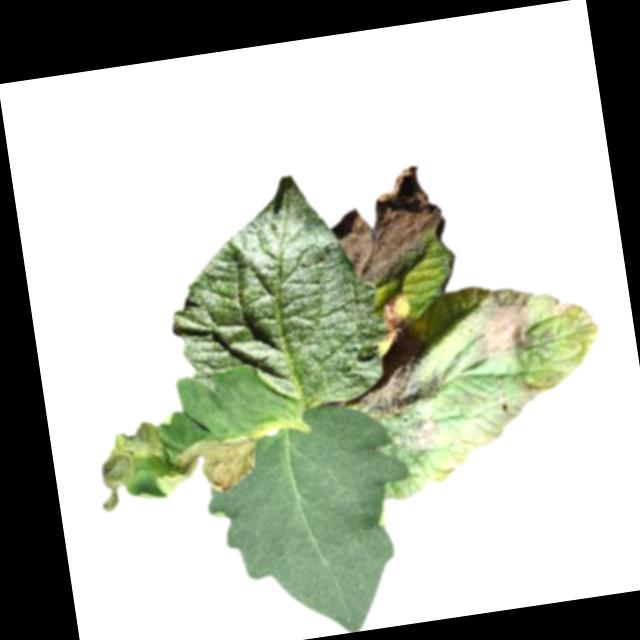Late_blight: (320, 162, 451, 294), (347, 325, 443, 419), (87, 417, 173, 513), (459, 282, 541, 366), (168, 432, 261, 499), (381, 406, 448, 460), (376, 289, 411, 335), (543, 289, 572, 321), (441, 454, 465, 474)
